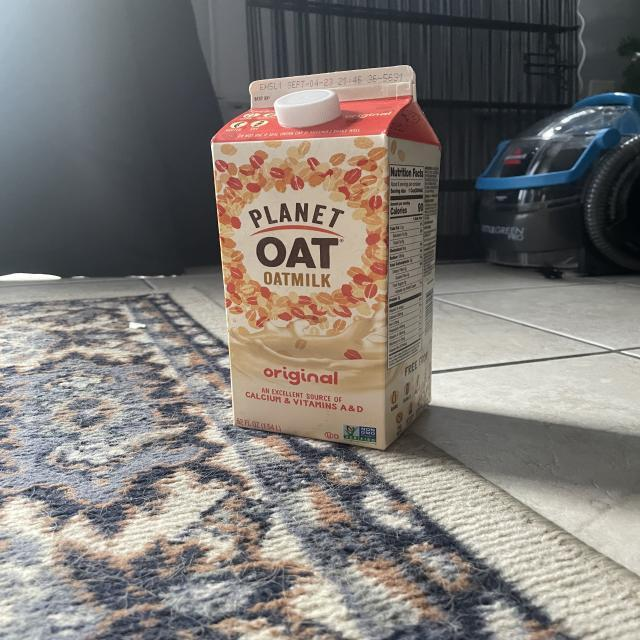Planet Oat Original: (208, 61, 446, 452)
